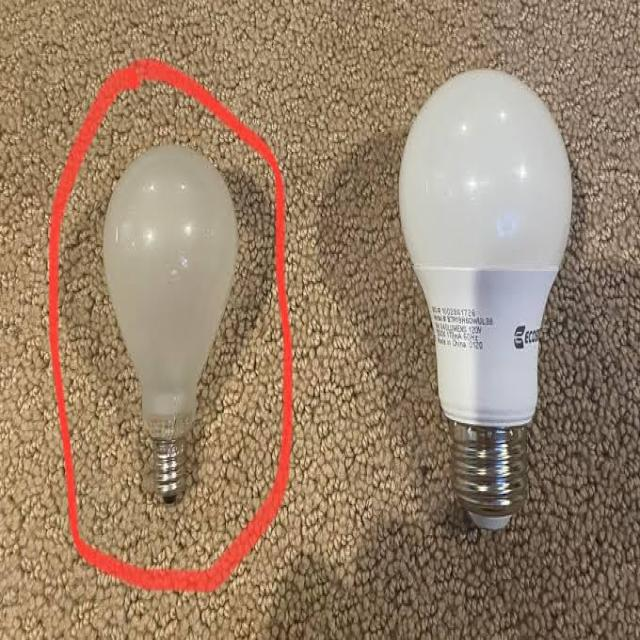bulb: (359, 48, 566, 568)
